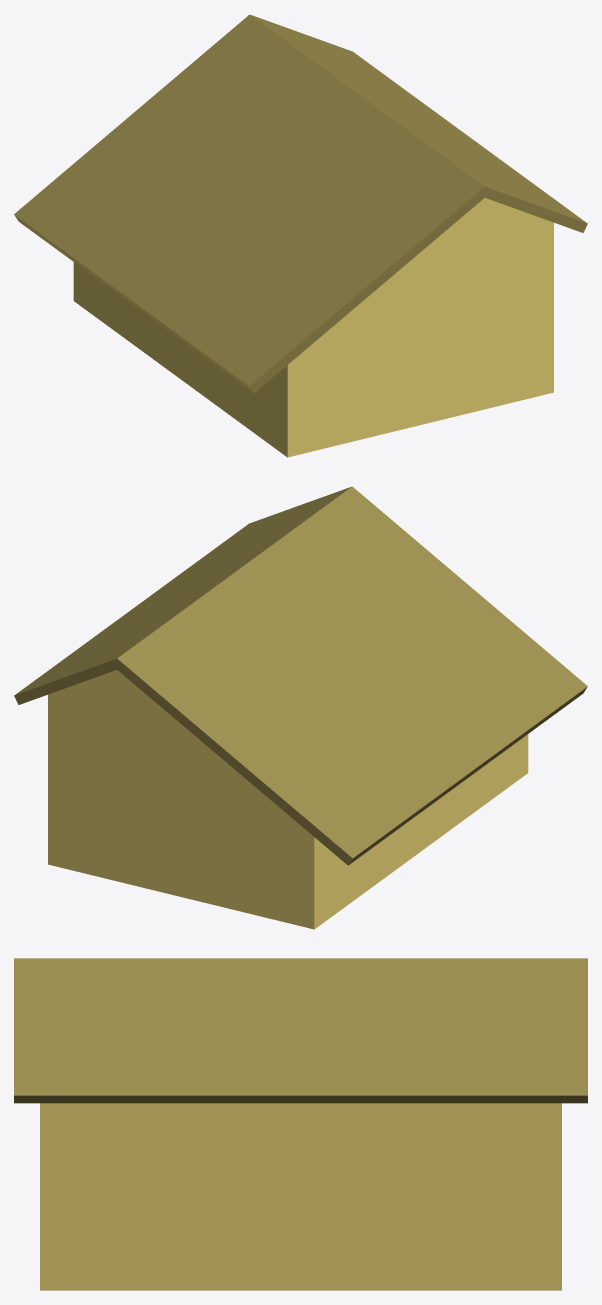
The model's file is result.glb.
The picture shows the model from 3 angles, top to bottom: view 1: azimuth 30°, elevation 25°; view 2: azimuth 150°, elevation 25°; view 3: azimuth 270°, elevation 25°; orthographic projection. The views are drawn at different scales.
Parts seen in each view (by area): view 1: d2d3a6a3-150a-453e-a856-cfd25d814e89__undefined (×2), 5b14b122-2b2b-449f-b6e5-90e9c96cbe72__undefined; view 2: d2d3a6a3-150a-453e-a856-cfd25d814e89__undefined (×2), 5b14b122-2b2b-449f-b6e5-90e9c96cbe72__undefined; view 3: 5b14b122-2b2b-449f-b6e5-90e9c96cbe72__undefined, d2d3a6a3-150a-453e-a856-cfd25d814e89__undefined.
Part boxes in pixels (x1=…): d2d3a6a3-150a-453e-a856-cfd25d814e89__undefined (×2): x1=14, y1=14, x2=587, y2=393; 5b14b122-2b2b-449f-b6e5-90e9c96cbe72__undefined: x1=73, y1=198, x2=553, y2=457; d2d3a6a3-150a-453e-a856-cfd25d814e89__undefined (×2): x1=14, y1=486, x2=587, y2=865; 5b14b122-2b2b-449f-b6e5-90e9c96cbe72__undefined: x1=48, y1=670, x2=528, y2=929; 5b14b122-2b2b-449f-b6e5-90e9c96cbe72__undefined: x1=40, y1=1103, x2=561, y2=1290; d2d3a6a3-150a-453e-a856-cfd25d814e89__undefined: x1=14, y1=958, x2=587, y2=1103.
Bounding box in the file's own units: 915 × 602 × 1100.
